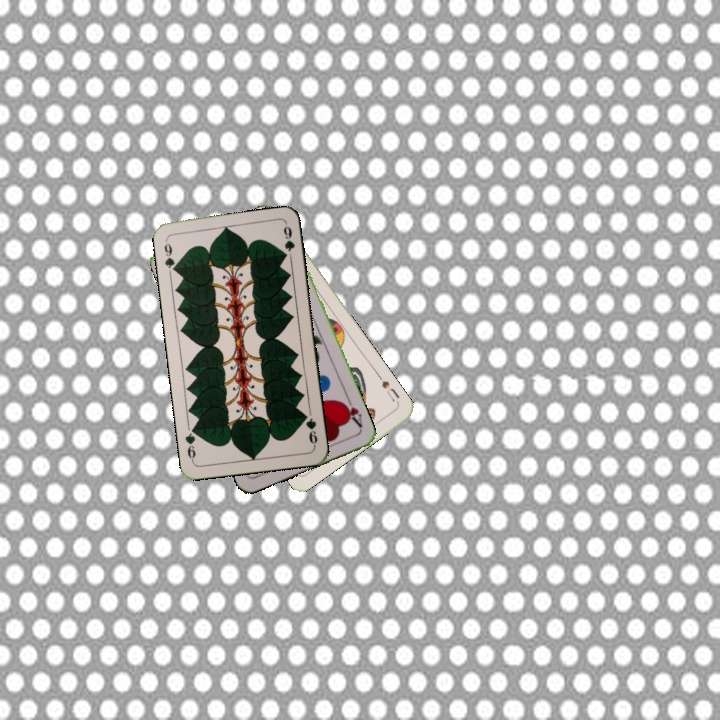G9: (299, 409, 320, 449), (160, 236, 180, 275)
HA: (338, 394, 365, 433)
SU: (374, 371, 402, 404)
